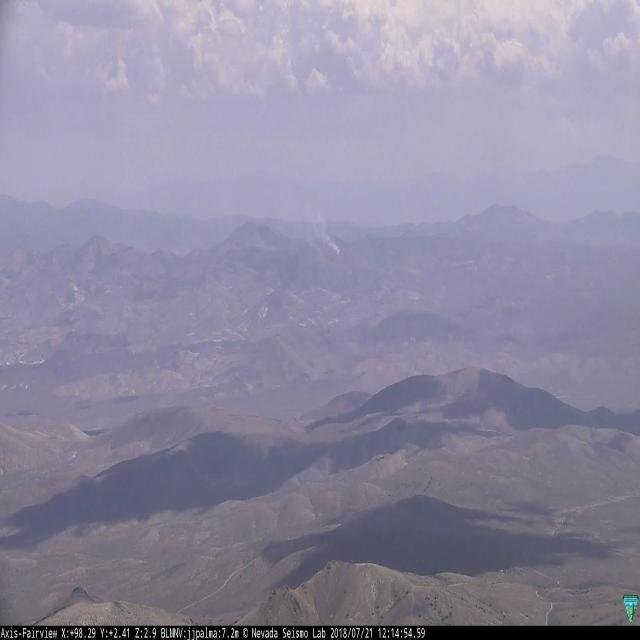smoke: (314, 212, 342, 256)
